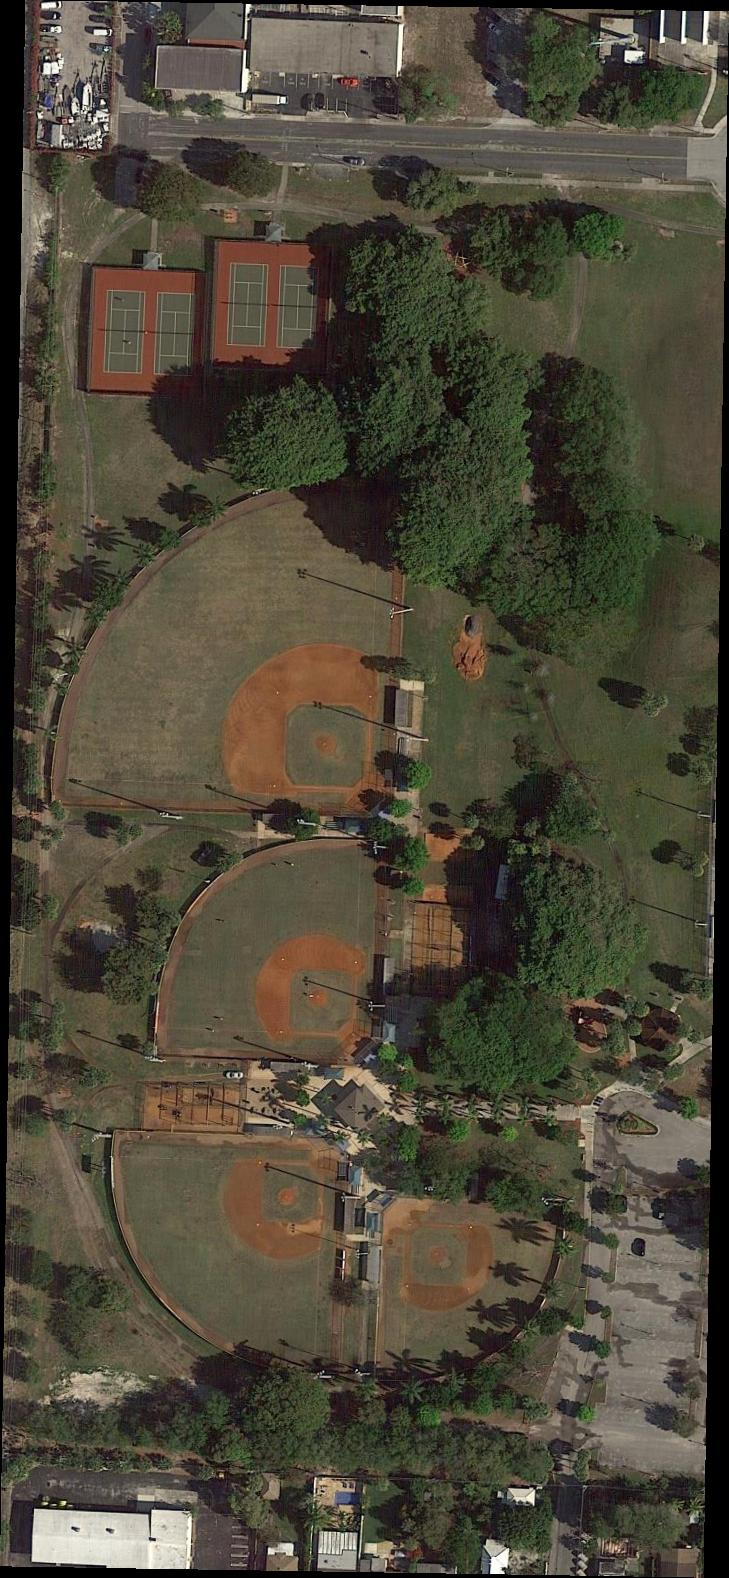ship: (81, 78, 94, 113), (71, 94, 81, 117)
